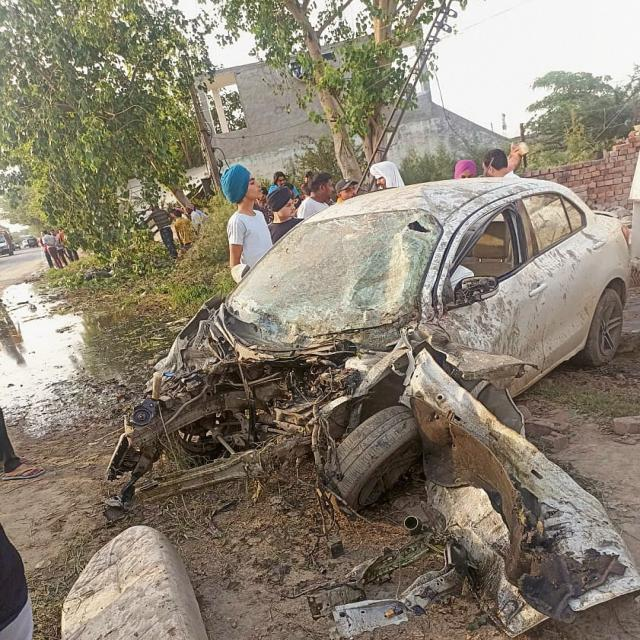accident: (110, 180, 626, 562)
